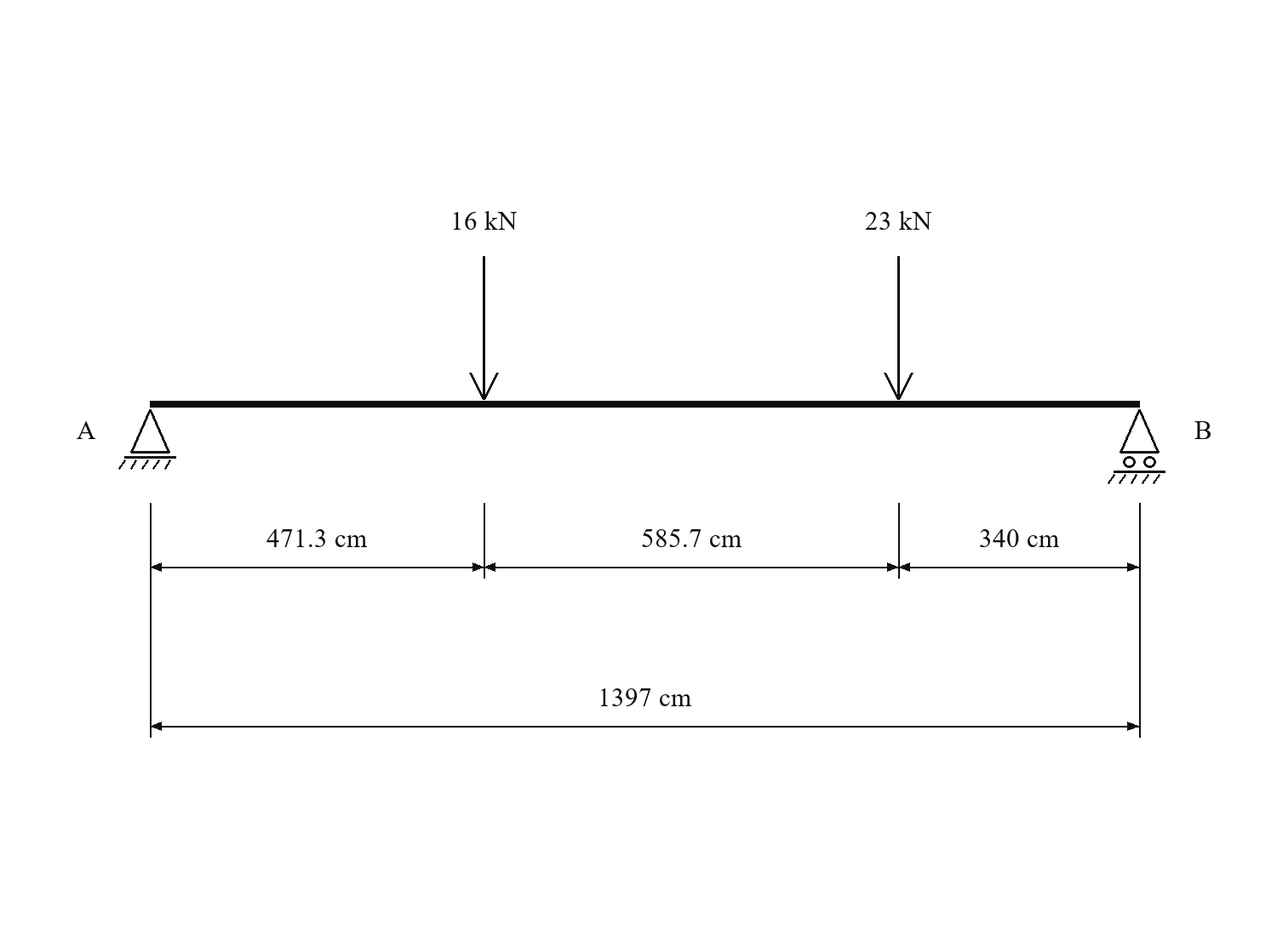pin_support: (118, 409, 176, 470)
point_load: (469, 256, 499, 400), (884, 256, 913, 400)
roller_support: (1108, 409, 1165, 484)
